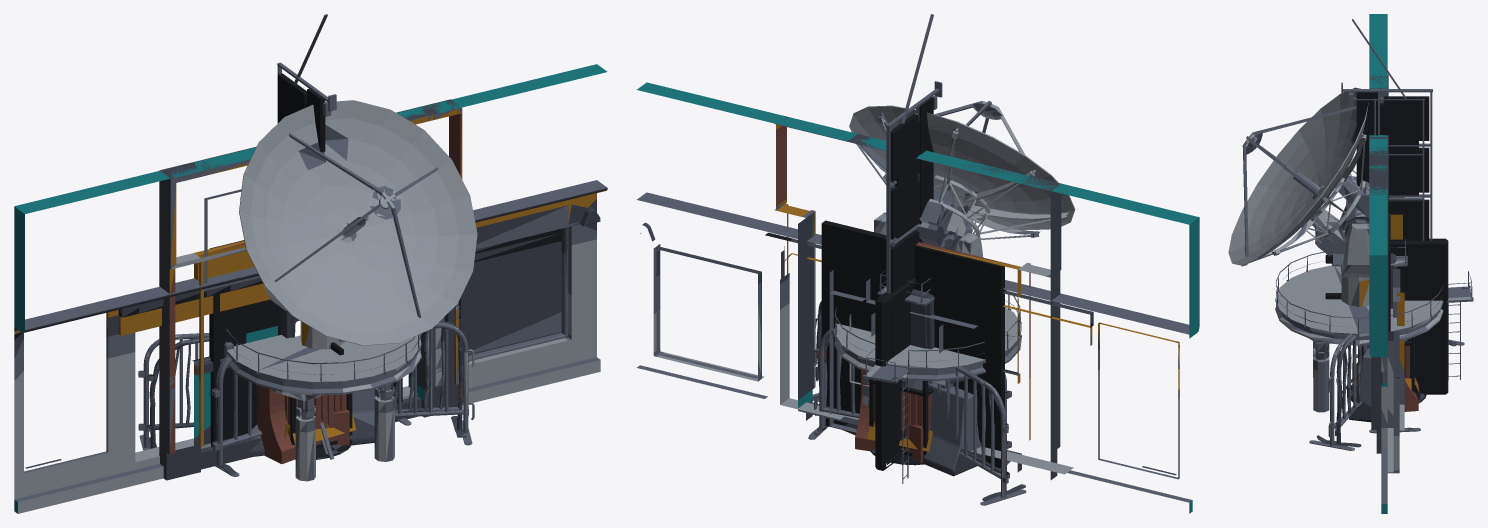
File: extra-props.glb
3 views of the same model, side by side, from view 1: azimuth 30°, elevation 25°; view 2: azimuth 150°, elevation 25°; view 3: azimuth 270°, elevation 25° (orthographic). The views are drawn at different scales.
Visible parts, largest first — view 1: ex-dish, ex-front-wide, ex-front-counter, ex-exit-door, ex-railing-b, ex-railing-b-bent, ex-blade-frame, ex-barrier-red, ex-bin-boarded, ex-barrier-concrete, ex-railing-a, ex-railing-a-bent; view 2: ex-dish, ex-front-wide, ex-exit-door, ex-front-counter, ex-blade-frame, ex-blade-led, ex-barrier-concrete, ex-railing-b, ex-bin-boarded, ex-front-door, ex-railing-a, ex-blade-narrow (+4 smaller); view 3: ex-dish, ex-front-wide, ex-blade-frame, ex-blade-led, ex-front-counter, ex-railing-b-bent, ex-blade-narrow, ex-railing-b, ex-barrier-concrete, ex-bin-boarded, ex-exit-door, ex-barrier-red (+1 smaller).
Part boxes in pixels (x1,y1,x2,y2): ex-dish: (226,100,477,481); ex-front-wide: (14,64,607,513); ex-front-counter: (159,99,462,480); ex-exit-door: (209,240,402,446); ex-railing-b: (138,322,474,450); ex-railing-b-bent: (145,321,468,448); ex-blade-frame: (277,62,336,459); ex-barrier-red: (257,385,295,463); ex-bin-boarded: (284,393,352,448); ex-barrier-concrete: (248,389,375,457); ex-railing-a: (213,356,400,476); ex-railing-a-bent: (212,355,411,475); ex-dish: (834,101,1075,483); ex-front-wide: (637,82,1199,513); ex-exit-door: (821,220,1004,468); ex-front-counter: (774,117,1061,479); ex-blade-frame: (886,81,942,356); ex-blade-led: (875,278,916,470); ex-barrier-concrete: (843,381,981,476); ex-railing-b: (812,314,1026,505); ex-bin-boarded: (869,379,933,462); ex-front-door: (829,270,977,432); ex-railing-a: (808,328,1016,464); ex-blade-narrow: (891,14,937,353); ex-dish: (1228,87,1473,412); ex-front-wide: (1369,14,1404,513); ex-blade-frame: (1341,82,1432,393); ex-blade-led: (1325,238,1448,394); ex-front-counter: (1369,74,1402,453); ex-railing-b-bent: (1316,335,1456,447); ex-blade-narrow: (1349,19,1424,391); ex-railing-b: (1309,333,1464,450); ex-barrier-concrete: (1349,348,1371,422); ex-bin-boarded: (1361,337,1414,392); ex-exit-door: (1388,197,1390,331); ex-barrier-red: (1356,363,1418,411).
Size of the model in its own units: 6 by 4.34 by 2.58.
Materials: 1 (1 with a texture image).
